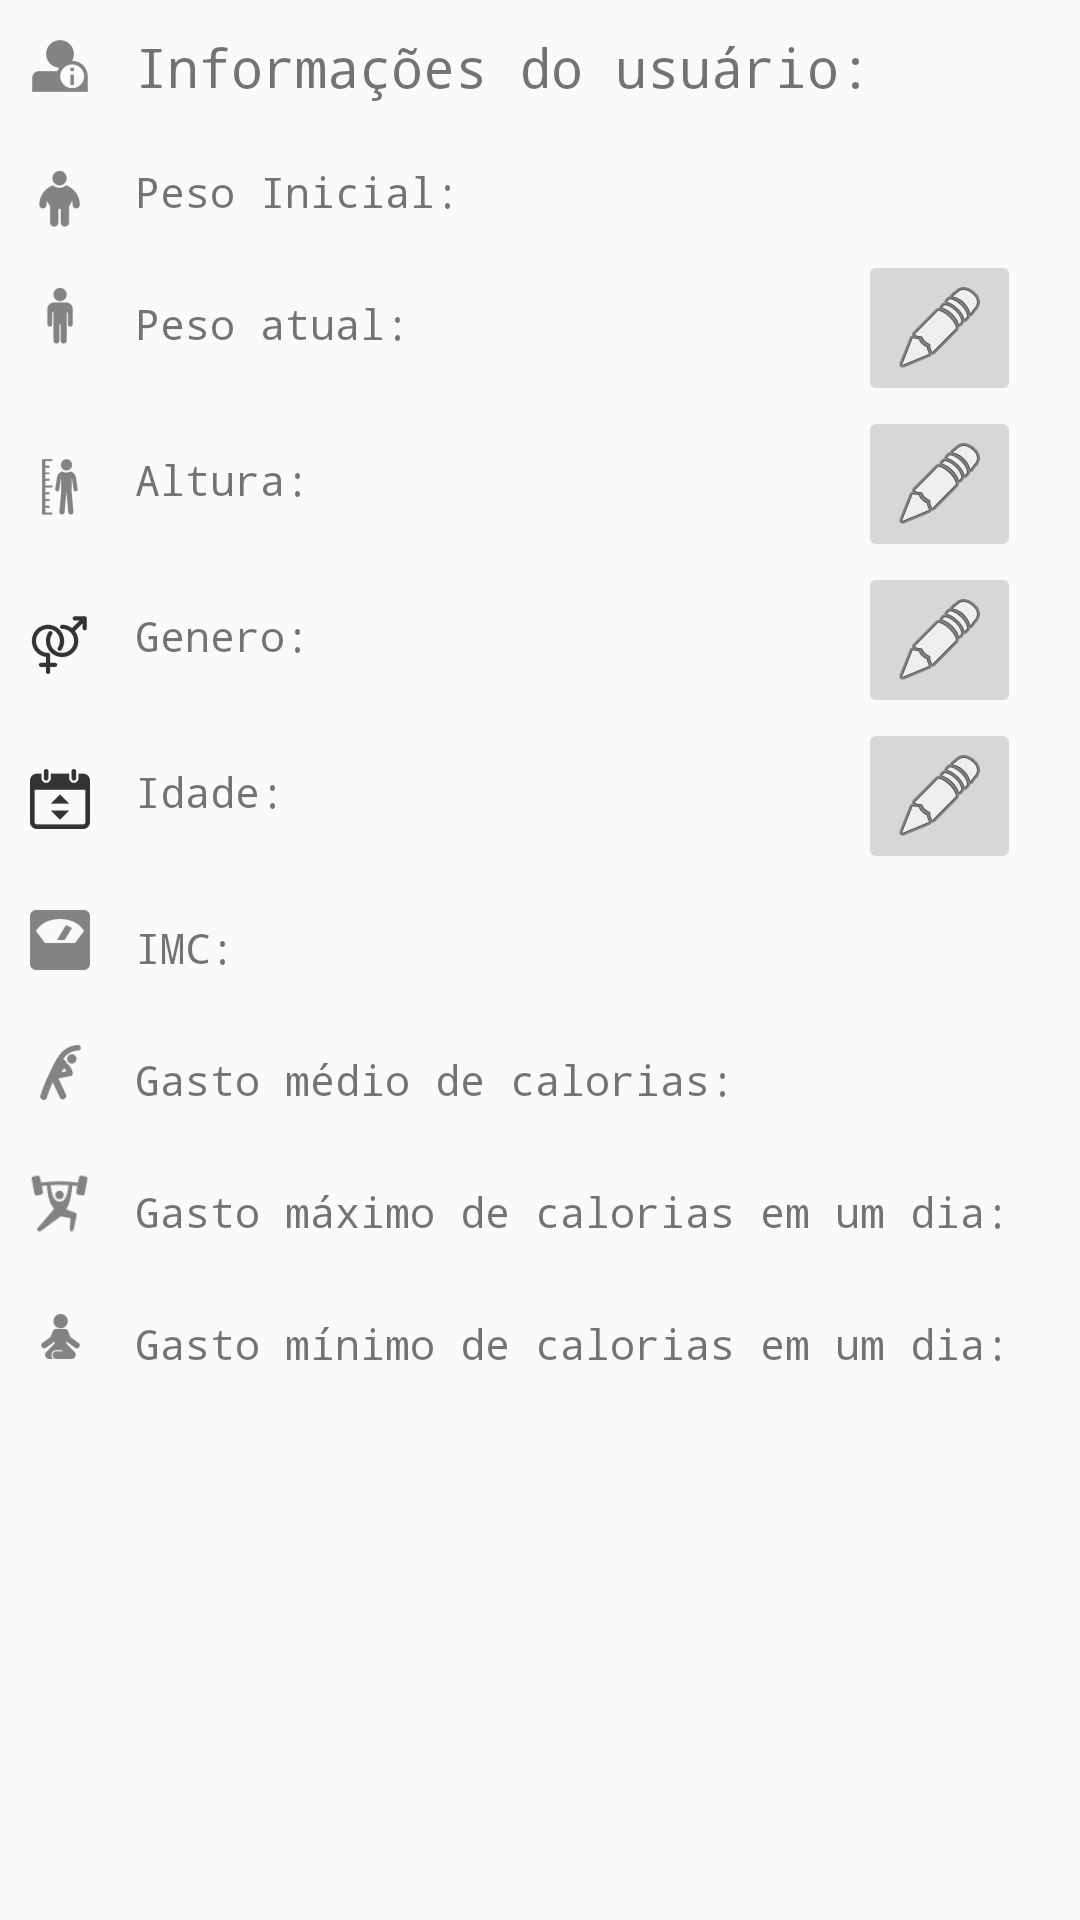

Icons on this 1080 x 1920 Android screen, each with the point to tap as (x=x, y=y):
balanca: (x=60, y=940)
edit: (x=939, y=328), (x=939, y=484), (x=939, y=640), (x=939, y=796)
gasto calorico: (x=59, y=1203)
gasto calorico medio: (x=60, y=1072)
gasto calorico minimo: (x=60, y=1336)
gender: (x=59, y=645)
gordo: (x=59, y=199)
homem magro: (x=60, y=316)
Ícone de perfil: (x=60, y=66)
